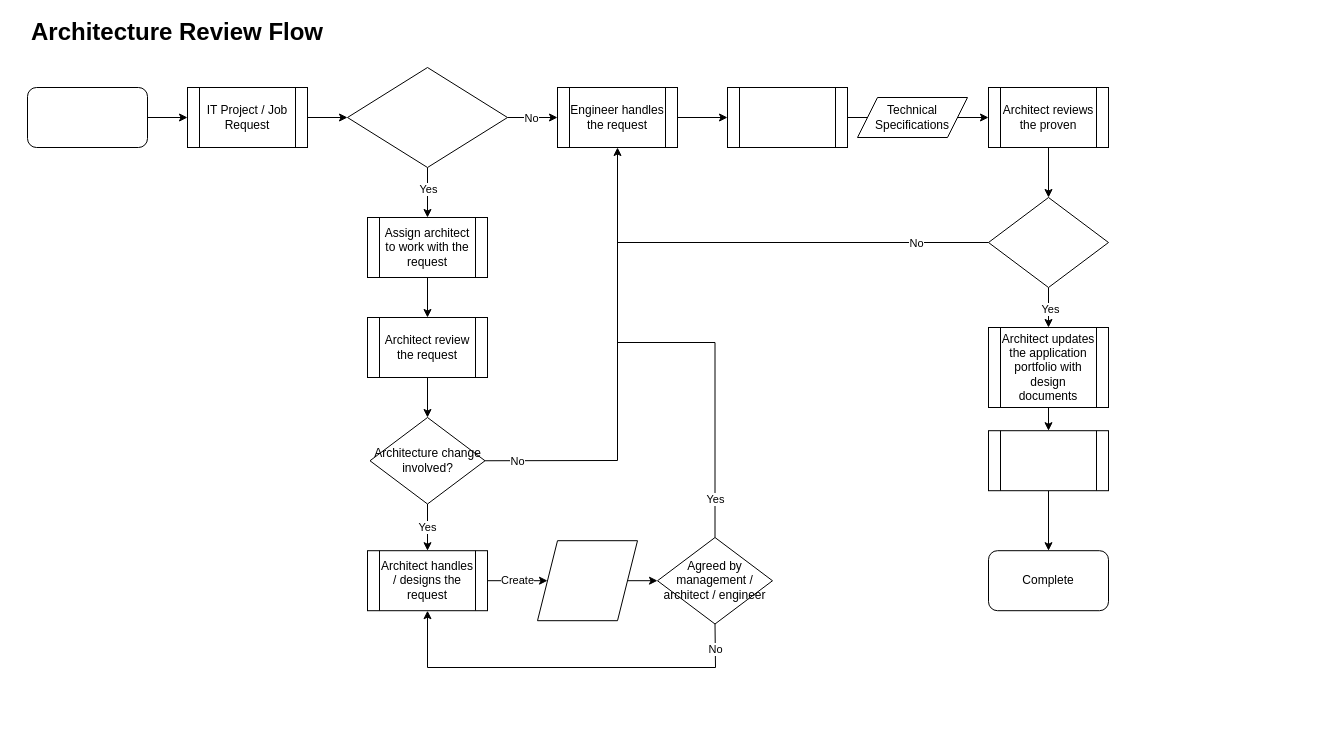
The diagram is 1324 pixels wide and 744 high, and some of its shapes have lost their labels. Here are the shapes that lost their labels. From the top down, the centre of each, then its label:
[87,117]: Initiative
[427,117]: Engineer estimates any architecture changes
[787,117]: Engineer gives proven for the solution design
[1048,242]: Request followed the architecture design
[1048,460]: Engineer launches request to Production
[587,580]: System Diagram / Design Recommendation
